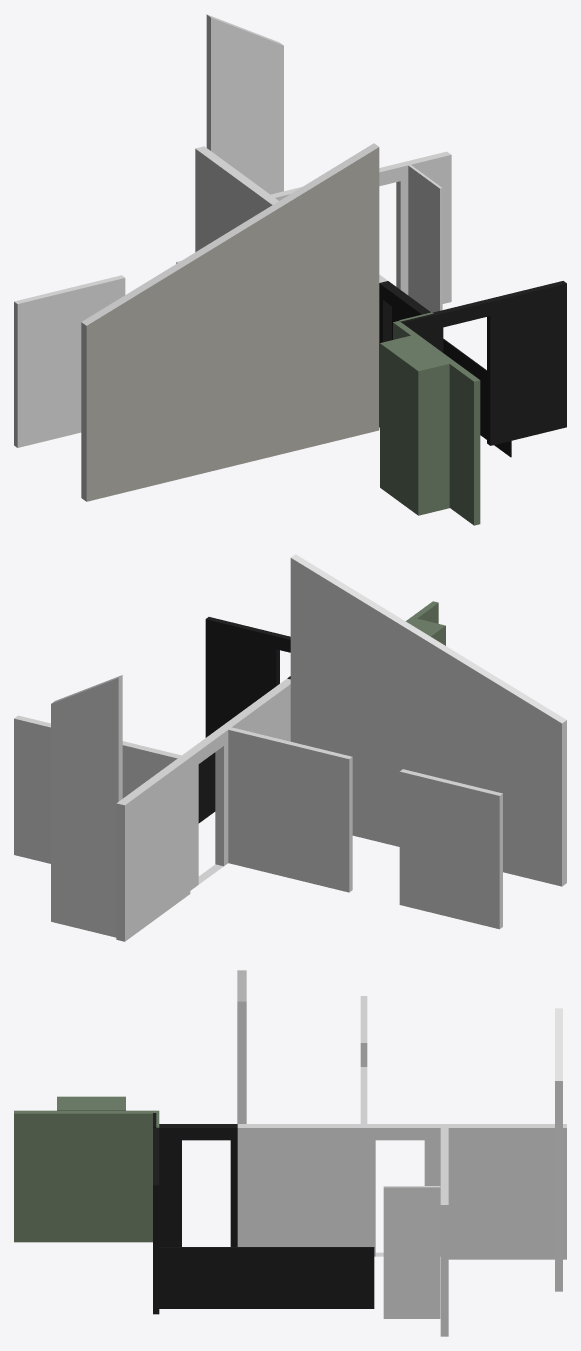
Rendered from OG_Innenwände.gltf.
3 views of the same model, one above another, from view 1: azimuth 30°, elevation 25°; view 2: azimuth 150°, elevation 25°; view 3: azimuth 270°, elevation 25° (orthographic). The views are drawn at different scales.
Parts seen in each view (by area): view 1: Curve.066, _Wand-Türen.004, _.008, Curve.067, Curve.068, Curve.069, _Curve.012, _.009, _Wand-Türen.006, _Wand-Türen.005, Curve.071, Curve.065; view 2: Curve.066, Curve.067, _.008, _Curve.012, _Wand-Türen.006, _Wand-Türen.004, _Wand-Türen.007, Curve.071, Curve.068; view 3: _Wand-Türen.007, Curve.069, _Curve.012, Curve.071, _.009, _Wand-Türen.005, _.008, _Wand-Türen.006, Curve.066, _Wand-Türen.004, Curve.068, Curve.067.
Boxes of the visible parts, x1,y1,x2,y2 form: Curve.066: [81, 143, 379, 501]; _Wand-Türen.004: [433, 281, 566, 445]; _.008: [206, 14, 283, 194]; Curve.067: [14, 260, 181, 447]; Curve.068: [380, 335, 449, 515]; Curve.069: [393, 321, 480, 525]; _Curve.012: [195, 146, 269, 251]; _.009: [408, 165, 442, 312]; _Wand-Türen.006: [261, 151, 451, 303]; _Wand-Türen.005: [379, 281, 430, 427]; Curve.071: [392, 306, 511, 457]; Curve.065: [401, 313, 435, 346]; Curve.066: [290, 554, 566, 886]; Curve.067: [228, 727, 502, 929]; _.008: [51, 675, 122, 937]; _Curve.012: [116, 758, 186, 941]; _Wand-Türen.006: [14, 715, 190, 896]; _Wand-Türen.004: [205, 617, 290, 737]; _Wand-Türen.007: [182, 678, 290, 890]; Curve.071: [198, 752, 215, 823]; Curve.068: [410, 618, 445, 645]; _Wand-Türen.007: [237, 1124, 440, 1256]; Curve.069: [14, 1110, 159, 1242]; _Curve.012: [448, 1124, 566, 1259]; Curve.071: [159, 1247, 374, 1308]; _.009: [383, 1186, 440, 1318]; _Wand-Türen.005: [159, 1124, 237, 1246]; _.008: [555, 1008, 562, 1291]; _Wand-Türen.006: [440, 1124, 448, 1336]; Curve.066: [237, 970, 246, 1123]; _Wand-Türen.004: [153, 1128, 159, 1314]; Curve.068: [57, 1096, 125, 1110]; Curve.067: [360, 996, 367, 1124].
Bounding box in the file's own units: 9.19 × 5.5 × 10.27.
